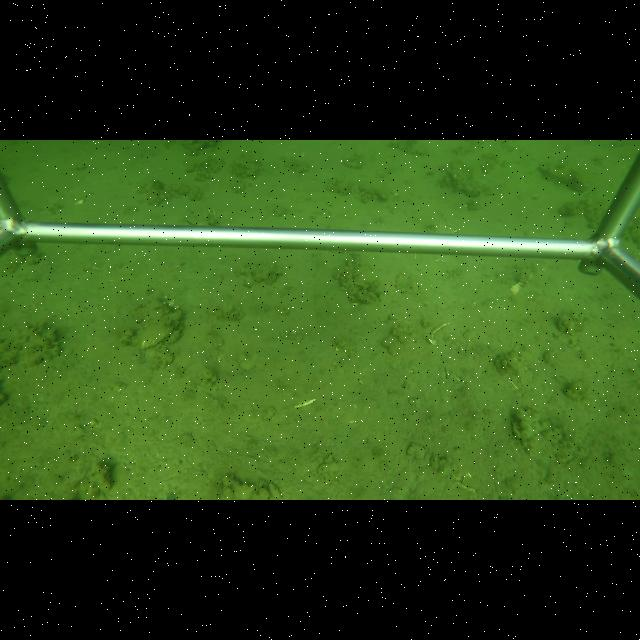Oyster-Closed: (134, 314, 174, 350)
